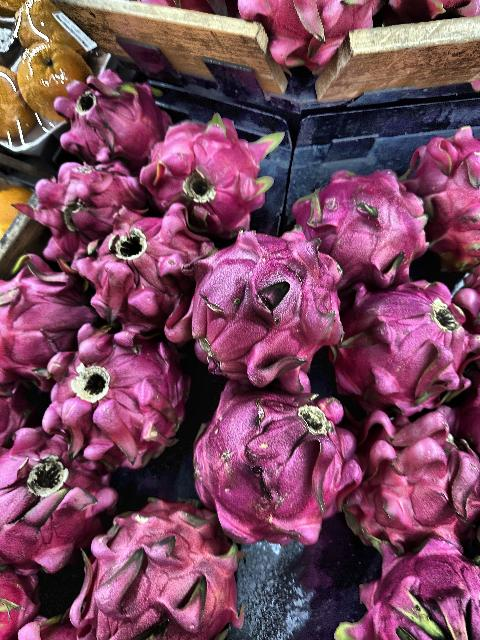buah-naga-matang: (180, 376, 362, 538), (80, 492, 241, 640), (193, 241, 338, 377), (346, 262, 480, 406), (72, 194, 200, 332), (48, 322, 177, 458), (360, 402, 480, 546), (0, 421, 114, 569), (346, 524, 480, 640), (144, 122, 282, 234), (297, 164, 427, 282), (10, 157, 142, 249), (0, 246, 94, 374), (46, 70, 162, 160), (420, 135, 480, 271)
